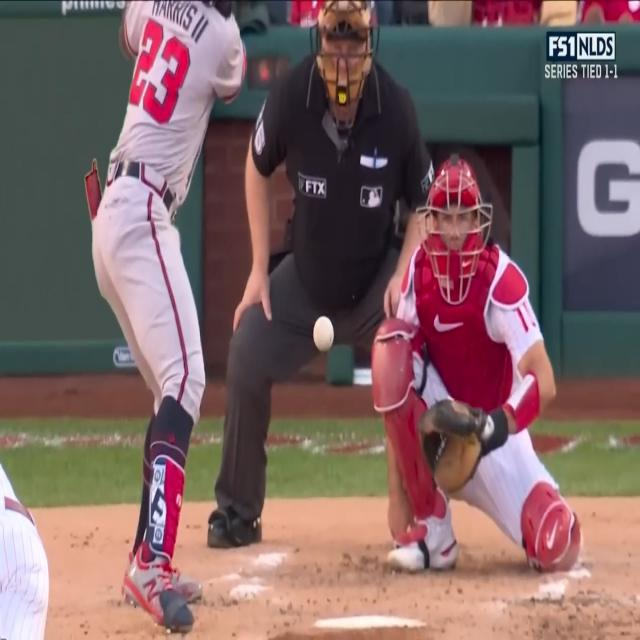baseball: (312, 315, 336, 353)
